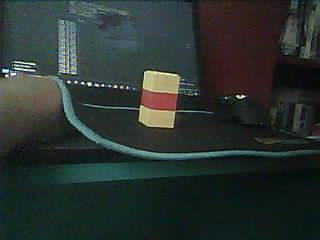lego: (138, 69, 180, 128)
